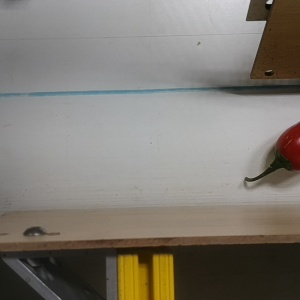Cut Point: (268, 125, 299, 178)
